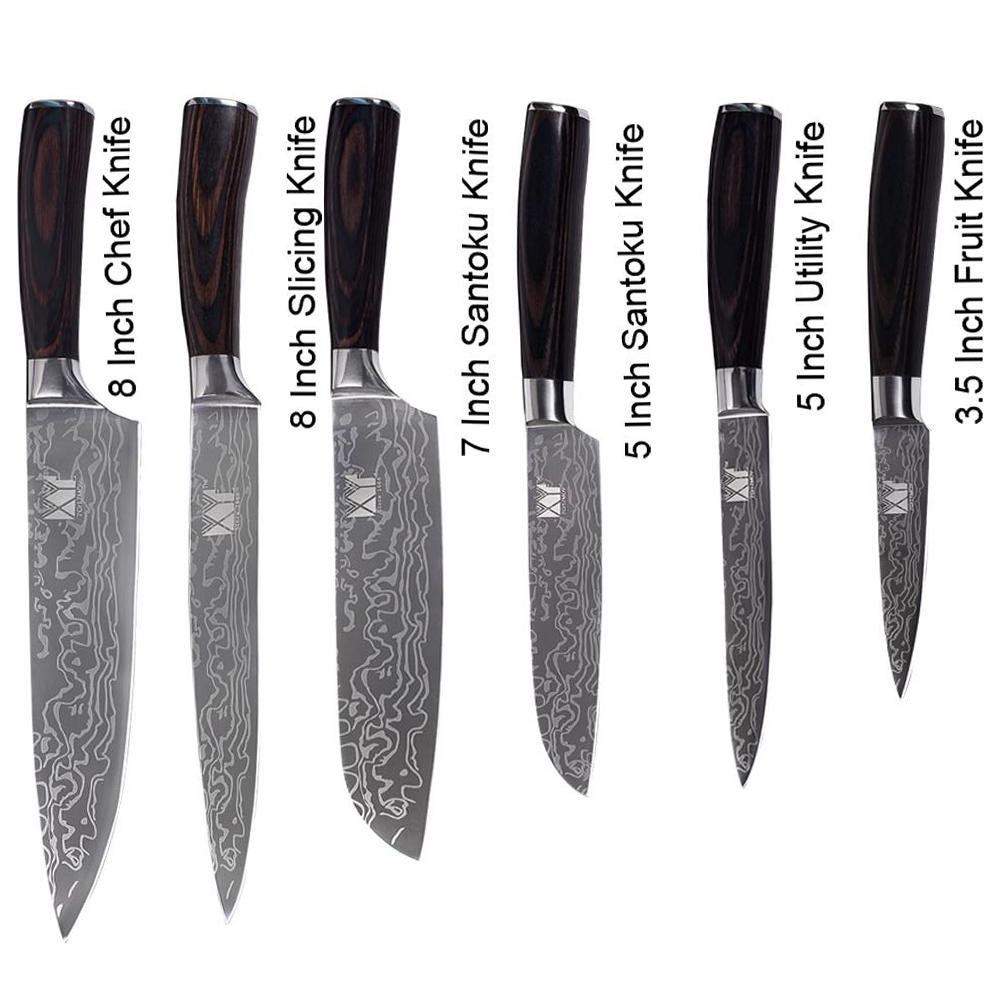knife: (21, 98, 138, 937), (176, 95, 261, 919), (515, 104, 602, 793), (709, 101, 779, 786), (865, 100, 944, 700)
